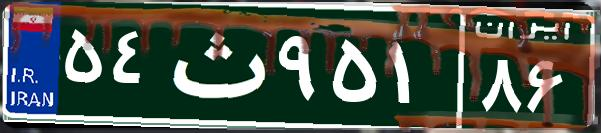1: (385, 28, 445, 110)
4: (110, 28, 158, 105)
5: (330, 28, 385, 110), (57, 26, 110, 107)
6: (525, 38, 570, 115)
8: (475, 38, 525, 113)
9: (273, 28, 330, 110)
ث: (158, 15, 273, 115)
